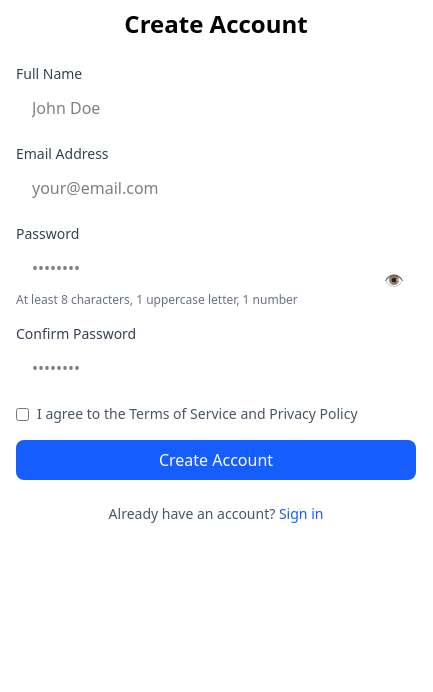
SignupForm › Full Name Validation › shows error for empty full name
The width and height of the screenshot is (433, 692).
Click the button "Create Account" at (216, 460), box [16, 440, 416, 480]
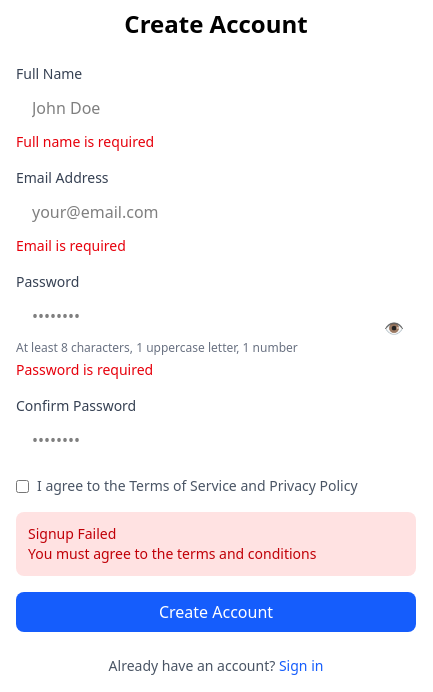
Check: the text "Full name is required" is shown, box [16, 132, 154, 151]
